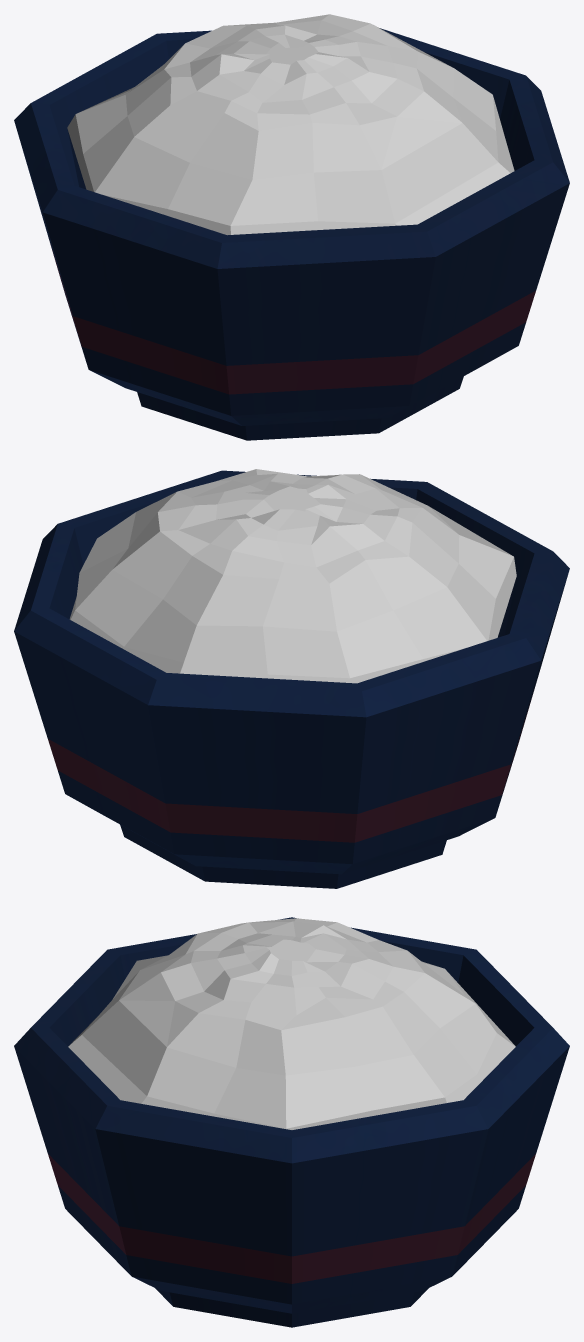
The model's file is Food_ricebowl.fbx.
3 renders of one model, top to bottom at view 1: azimuth 30°, elevation 25°; view 2: azimuth 150°, elevation 25°; view 3: azimuth 270°, elevation 25°, orthographic. The views are drawn at different scales.
Visible parts, largest first — view 1: Cup.003; view 2: Cup.003; view 3: Cup.003.
Boxes of the visible parts, x1,y1,x2,y2 form: Cup.003: [14, 14, 569, 440]; Cup.003: [14, 469, 569, 888]; Cup.003: [14, 917, 569, 1327].
Bounding box in the file's own units: 18.02 × 11.07 × 18.02.
